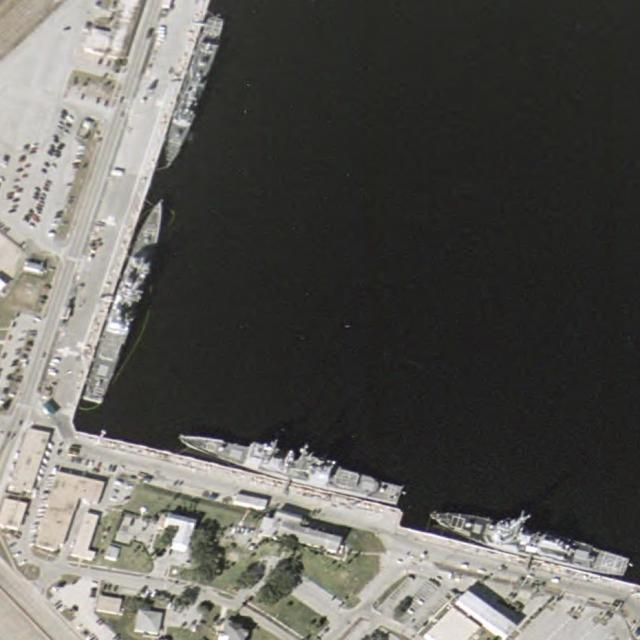Cruiser: (176, 423, 407, 505), (81, 198, 171, 405)
Destroyer: (425, 501, 630, 579)
Frigate: (160, 12, 224, 170)
